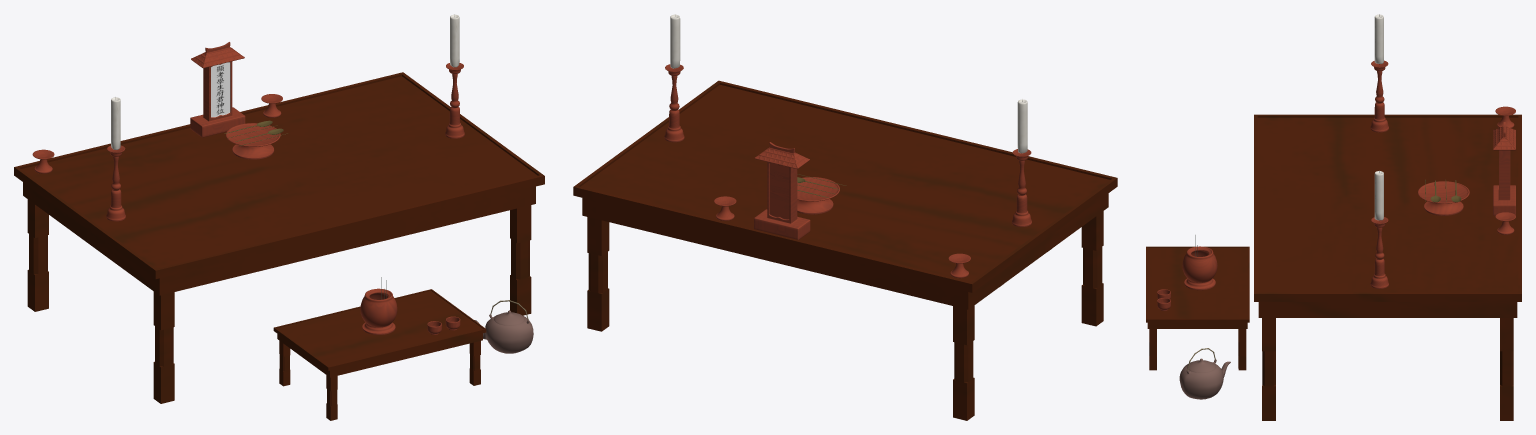
The model's file is only_teble.fbx.
3 views of the same model, side by side, from view 1: azimuth 30°, elevation 25°; view 2: azimuth 150°, elevation 25°; view 3: azimuth 270°, elevation 25° (orthographic). The views are drawn at different scales.
Visible parts, largest first — view 1: Cylinder.063; view 2: Cylinder.063; view 3: Cylinder.063.
Boxes of the visible parts, x1,y1,x2,y2 form: Cylinder.063: [14, 14, 544, 420]; Cylinder.063: [573, 14, 1117, 420]; Cylinder.063: [1146, 14, 1521, 420].
Bounding box in the file's own units: 123 × 78.02 × 109.
